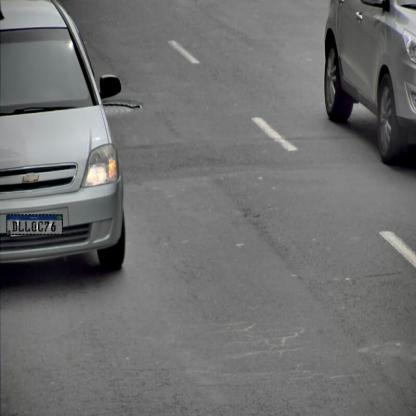PlacaM: (6, 214, 63, 235)
